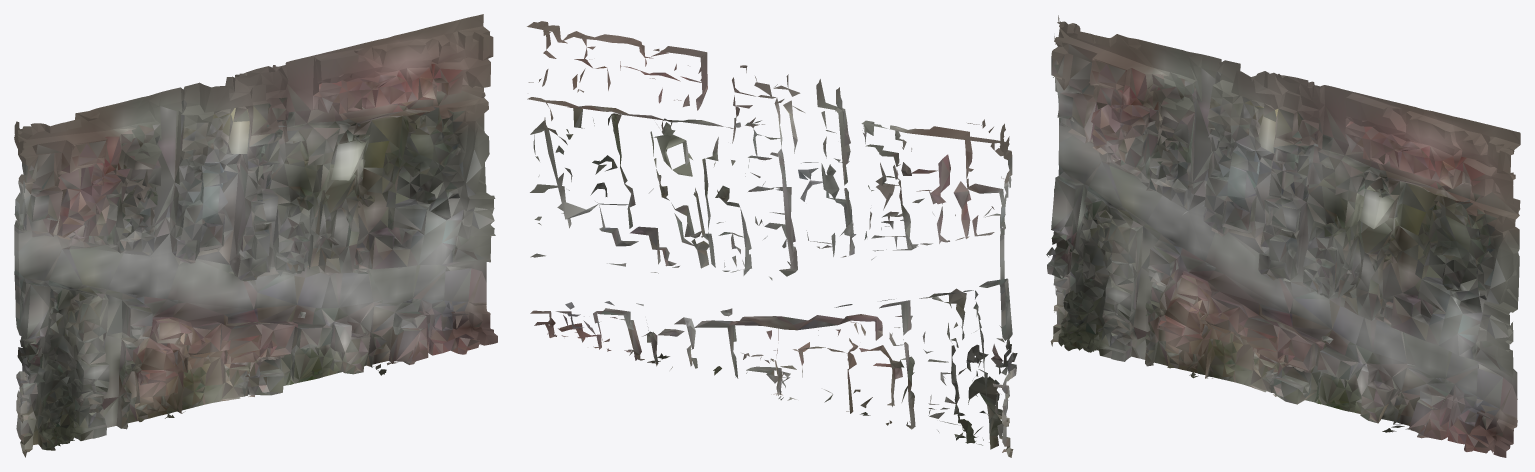
The picture shows the model from 3 angles, left to right: view 1: azimuth 30°, elevation 25°; view 2: azimuth 150°, elevation 25°; view 3: azimuth 330°, elevation 25°; orthographic projection. The views are drawn at different scales.
Size of the model in its own units: 195 by 132 by 16.93.
1 material, 1 textured.
